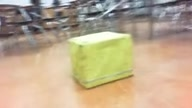cube: (66, 31, 133, 89)
